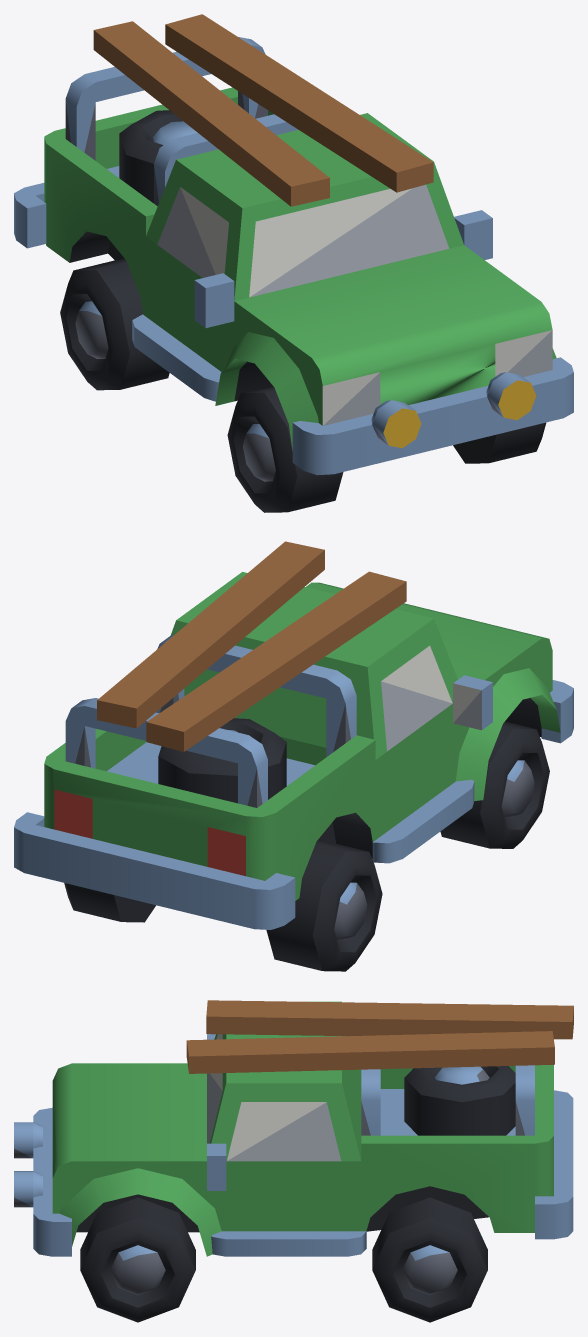
Rendered from vehicle-truck-green.glb.
3 renders of one model, top to bottom at view 1: azimuth 30°, elevation 25°; view 2: azimuth 150°, elevation 25°; view 3: azimuth 270°, elevation 25°, orthographic. The views are drawn at different scales.
Parts seen in each view (by area): view 1: vehicle-truck-green; view 2: vehicle-truck-green; view 3: vehicle-truck-green.
Part boxes in pixels (x1,y1,x2,y2): vehicle-truck-green: [14, 14, 573, 512]; vehicle-truck-green: [14, 541, 573, 971]; vehicle-truck-green: [14, 1000, 573, 1322].
Size of the model in its own units: 2.55 by 2.38 by 4.93.
